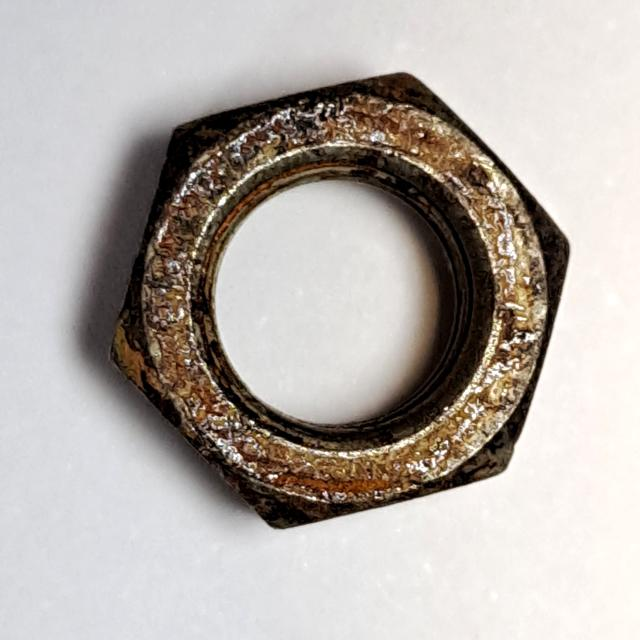Rust: (94, 53, 581, 550)
